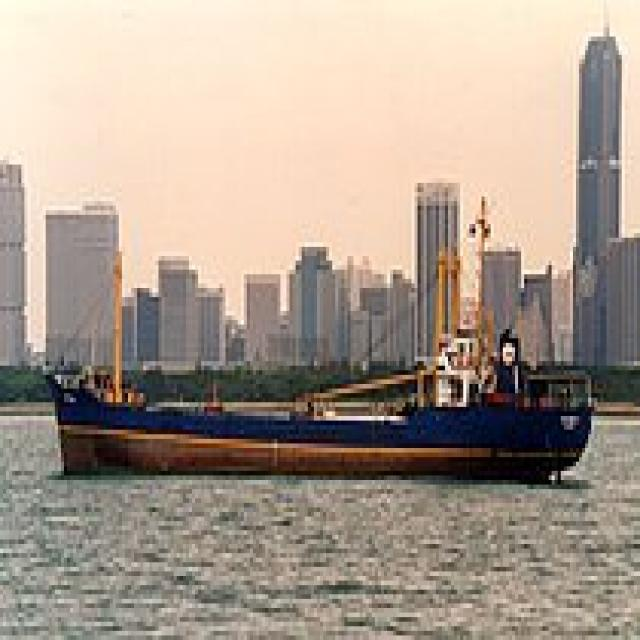Ship: (41, 335, 605, 500)
